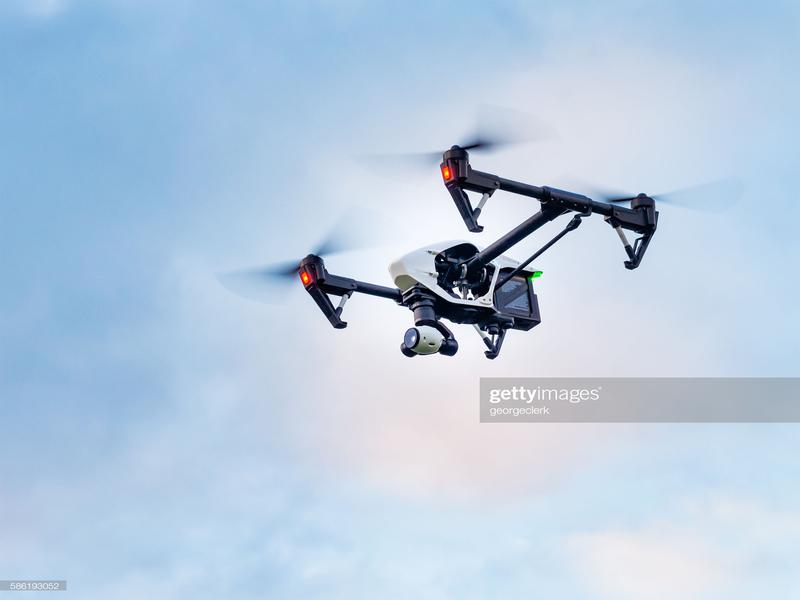enemy: (303, 150, 660, 355)
